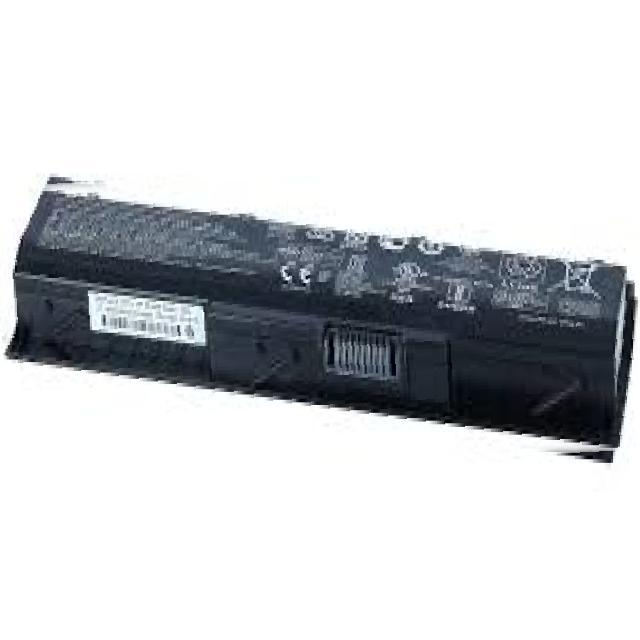Battery: (0, 146, 640, 480)
